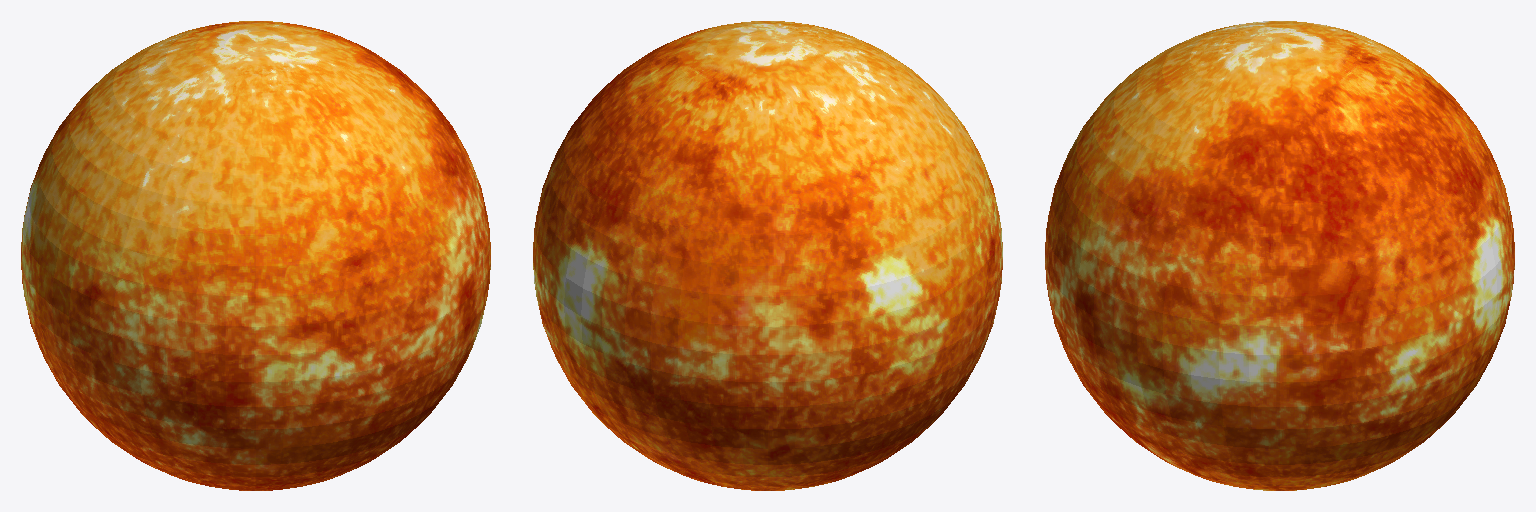
3 renders of one model, left to right at view 1: azimuth 30°, elevation 25°; view 2: azimuth 150°, elevation 25°; view 3: azimuth 270°, elevation 25°, orthographic.
Parts seen in each view (by area): view 1: Star_Sphere.002; view 2: Star_Sphere.002; view 3: Star_Sphere.002.
Part boxes in pixels (x1,y1,x2,y2): Star_Sphere.002: (21,21,490,490); Star_Sphere.002: (533,21,1002,490); Star_Sphere.002: (1045,21,1514,490).
Size of the model in its own units: 200 by 200 by 200.
1 materials, 1 textured.